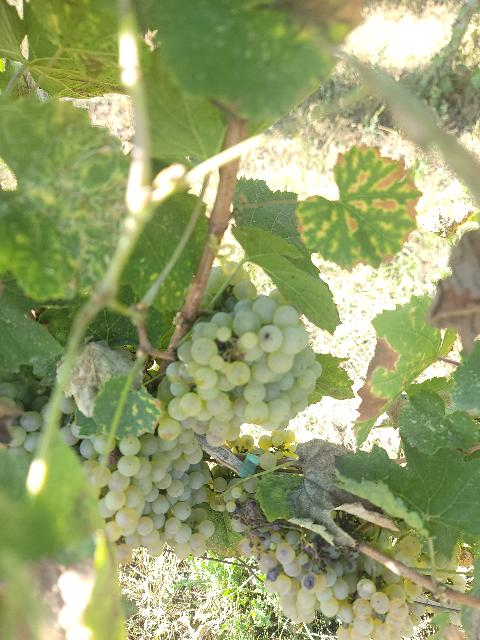grapes: (166, 280, 321, 445), (80, 415, 214, 562), (239, 530, 349, 622), (336, 569, 414, 640)
